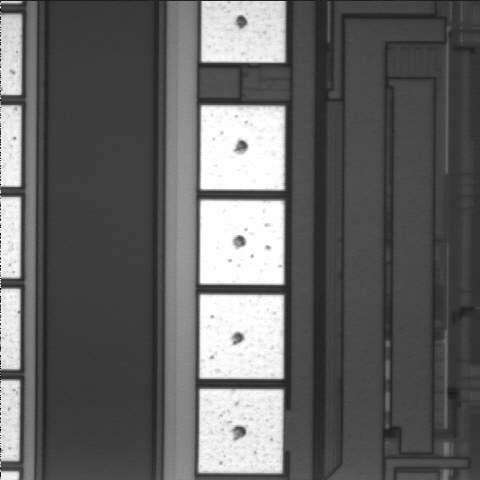pad: (200, 105, 285, 190), (199, 294, 284, 379), (200, 200, 284, 285), (199, 389, 283, 473)
